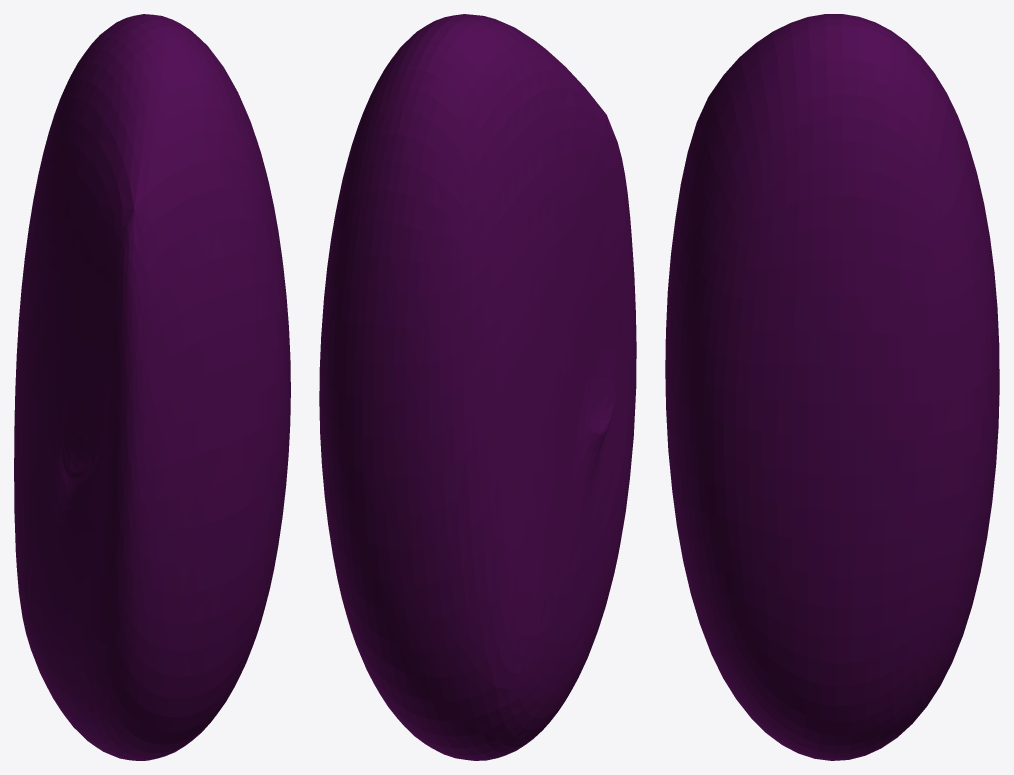
The picture shows the model from 3 angles, left to right: view 1: azimuth 30°, elevation 25°; view 2: azimuth 150°, elevation 25°; view 3: azimuth 270°, elevation 25°; orthographic projection. The views are drawn at different scales.
Parts seen in each view (by area): view 1: 359_Cube.1465; view 2: 359_Cube.1465; view 3: 359_Cube.1465.
Boxes of the visible parts, <box> form: 359_Cube.1465: <box>14,14,290,760</box>; 359_Cube.1465: <box>319,14,636,760</box>; 359_Cube.1465: <box>665,14,999,760</box>.
Bounding box in the file's own units: 3.35 × 10.42 × 4.25.
